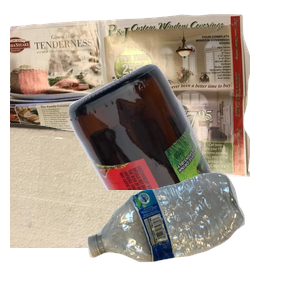glass: (66, 61, 300, 241)
paper: (10, 11, 250, 180)
plastic: (85, 170, 300, 300)
trash: (10, 120, 207, 300)
